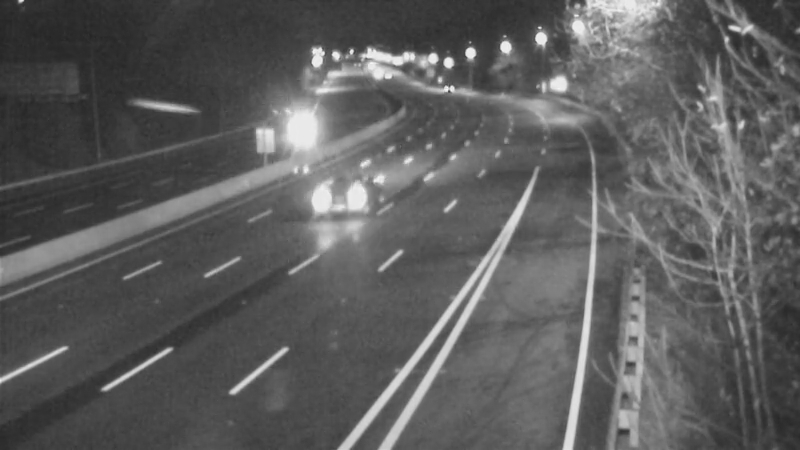vehicle: (302, 159, 382, 239), (419, 61, 469, 111), (281, 105, 331, 155)
